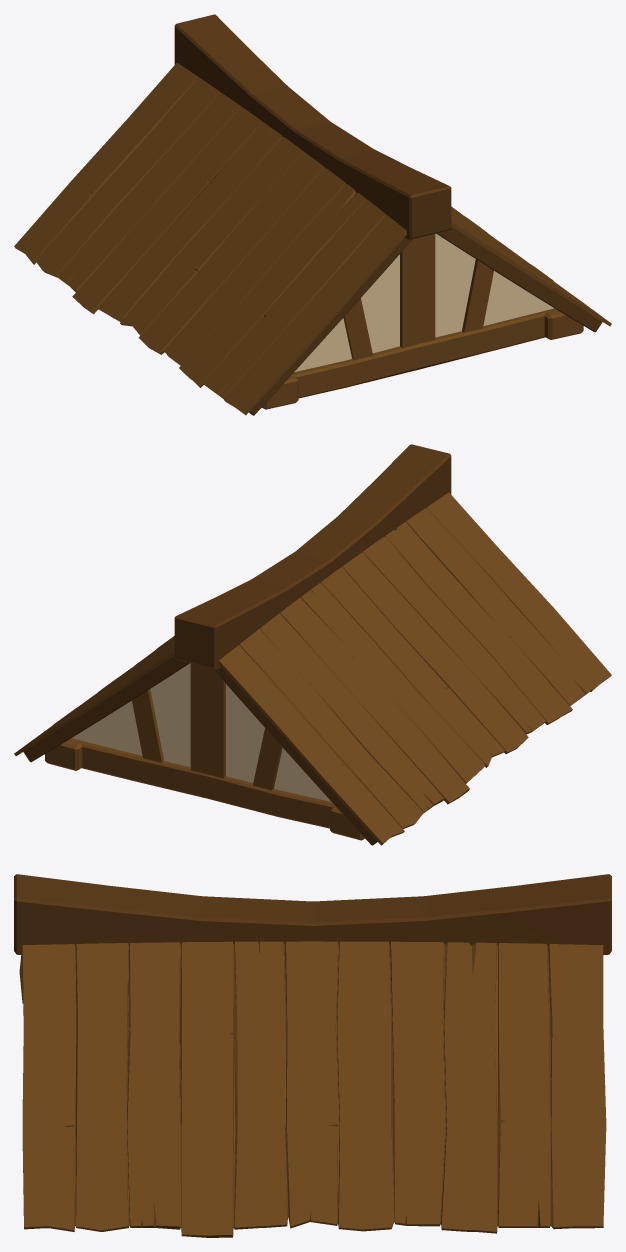
File: Roof_02.fbx
3 renders of one model, top to bottom at view 1: azimuth 30°, elevation 25°; view 2: azimuth 150°, elevation 25°; view 3: azimuth 270°, elevation 25°, orthographic. The views are drawn at different scales.
Visible parts, largest first — view 1: Roof_02; view 2: Roof_02; view 3: Roof_02.
Boxes of the visible parts, <box> form: Roof_02: <box>14,14,611,415</box>; Roof_02: <box>14,444,611,845</box>; Roof_02: <box>14,874,611,1237</box>.
Bounding box in the file's own units: 614 × 290 × 665.
